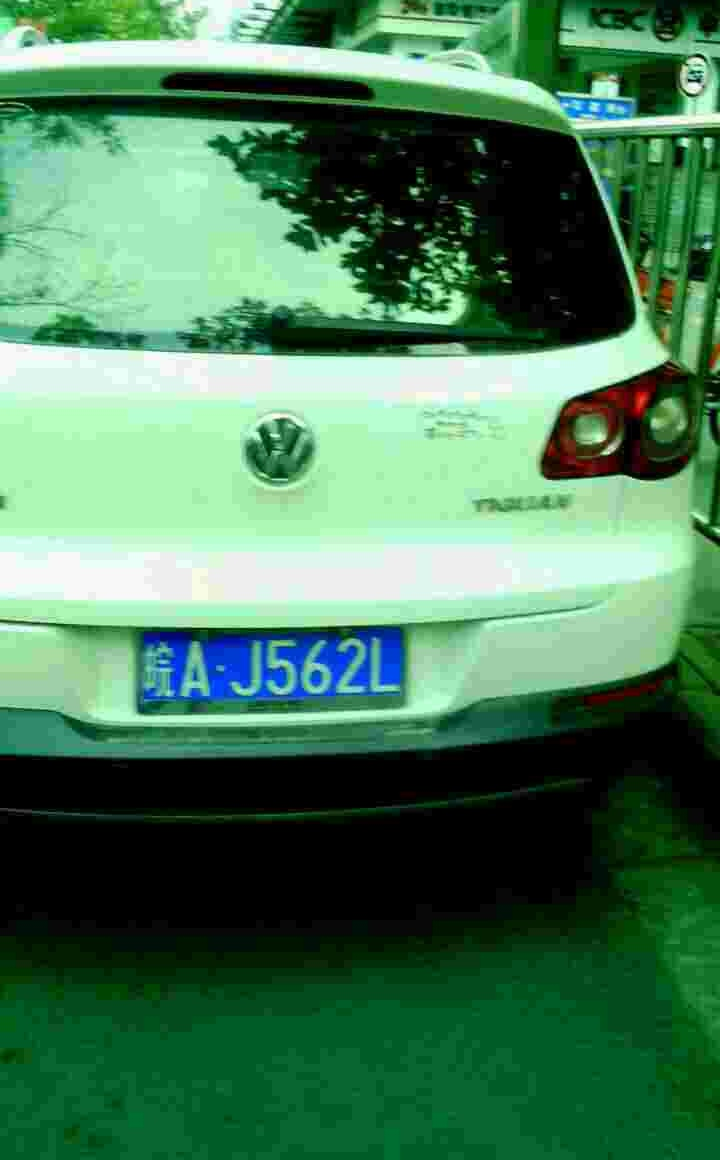plate: (140, 619, 416, 716)
